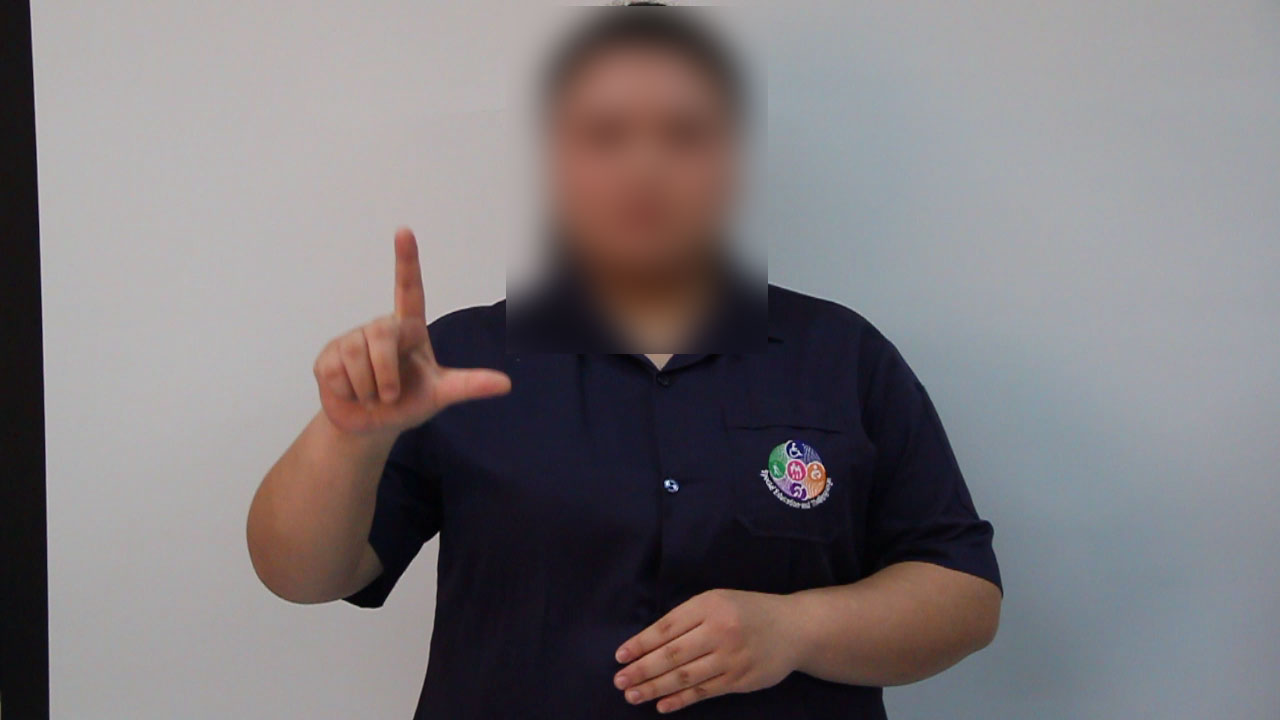lor: (302, 214, 532, 464)
